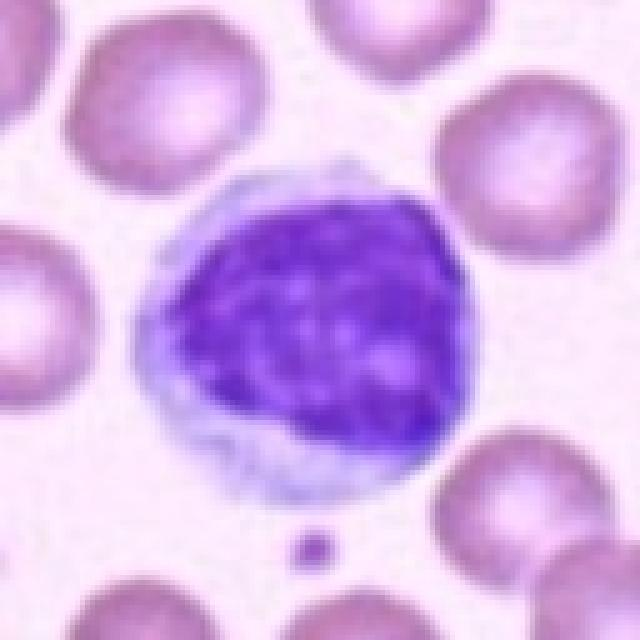lympho: (122, 147, 488, 517)
